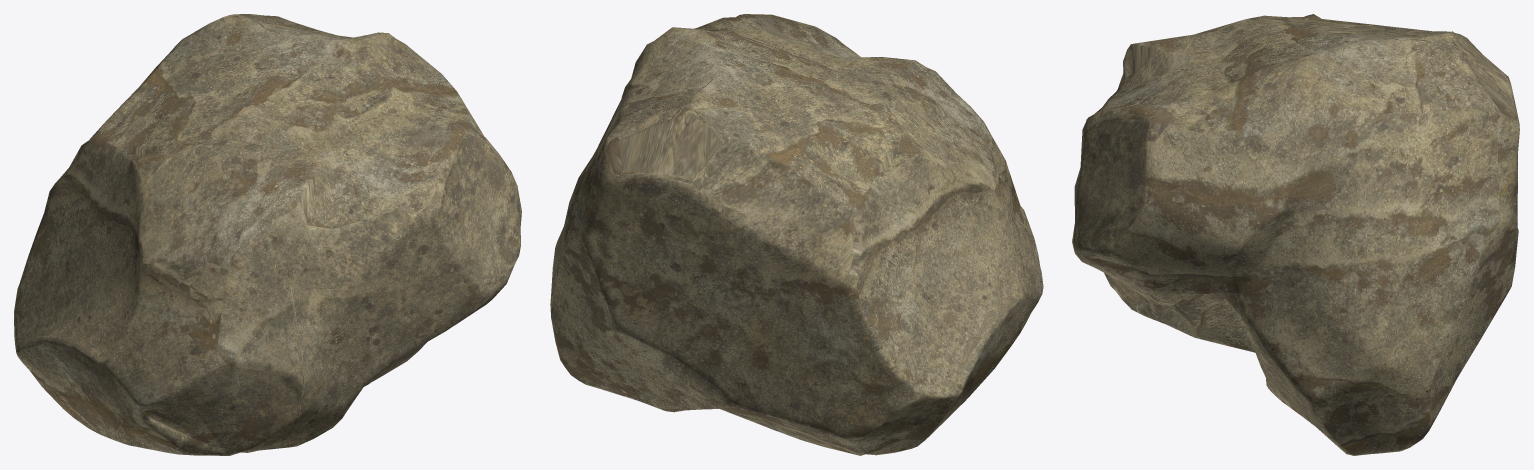
File: saltmine_rock_large_03.dae
The picture shows the model from 3 angles, left to right: view 1: azimuth 30°, elevation 25°; view 2: azimuth 150°, elevation 25°; view 3: azimuth 270°, elevation 25°; orthographic projection. The views are drawn at different scales.
Visible parts, largest first — view 1: large_03; view 2: large_03; view 3: large_03.
Part boxes in pixels (x1,y1,x2,y2): large_03: (14,14,521,455); large_03: (550,14,1043,455); large_03: (1072,14,1519,455).
Bounding box in the file's own units: 2.85 × 2.32 × 2.52.
